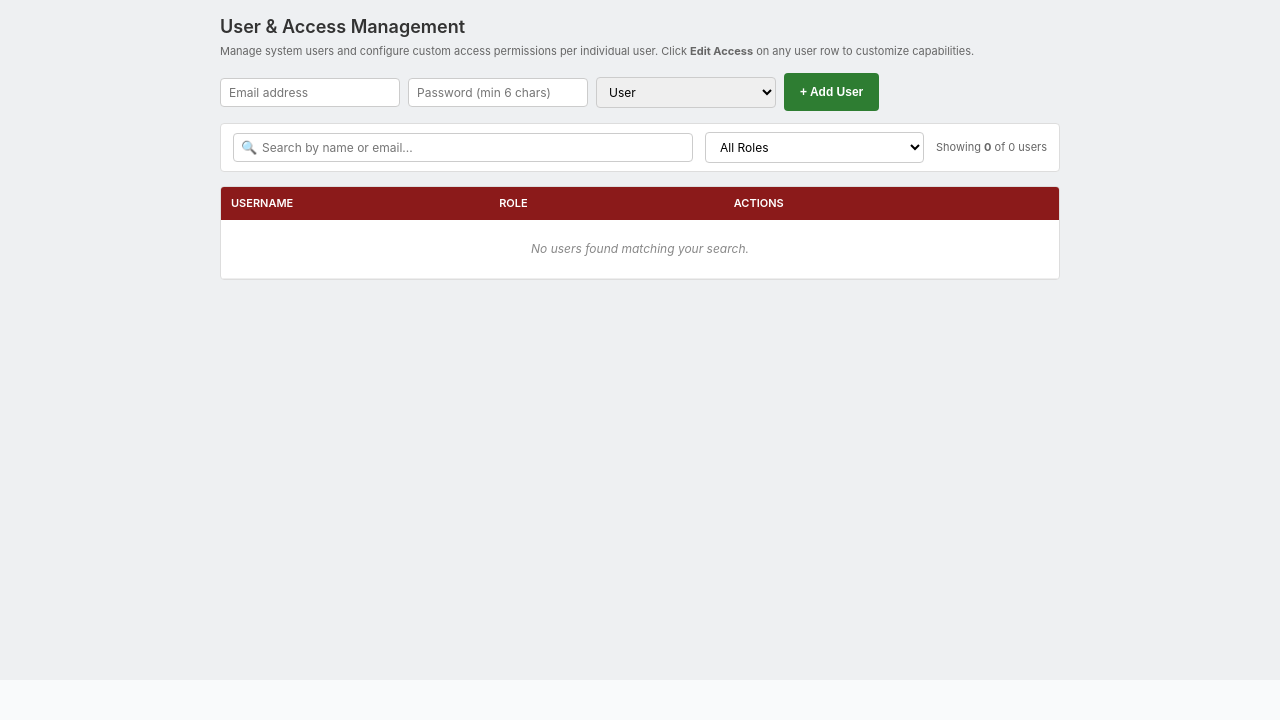
UserManagementView › Add User Form › shows validation error when email is invalid
The width and height of the screenshot is (1280, 720).
Step 1. Type "invalidemail" into the field with class "um-input" showing "Email address" → (310,92), box [220,78,400,106]
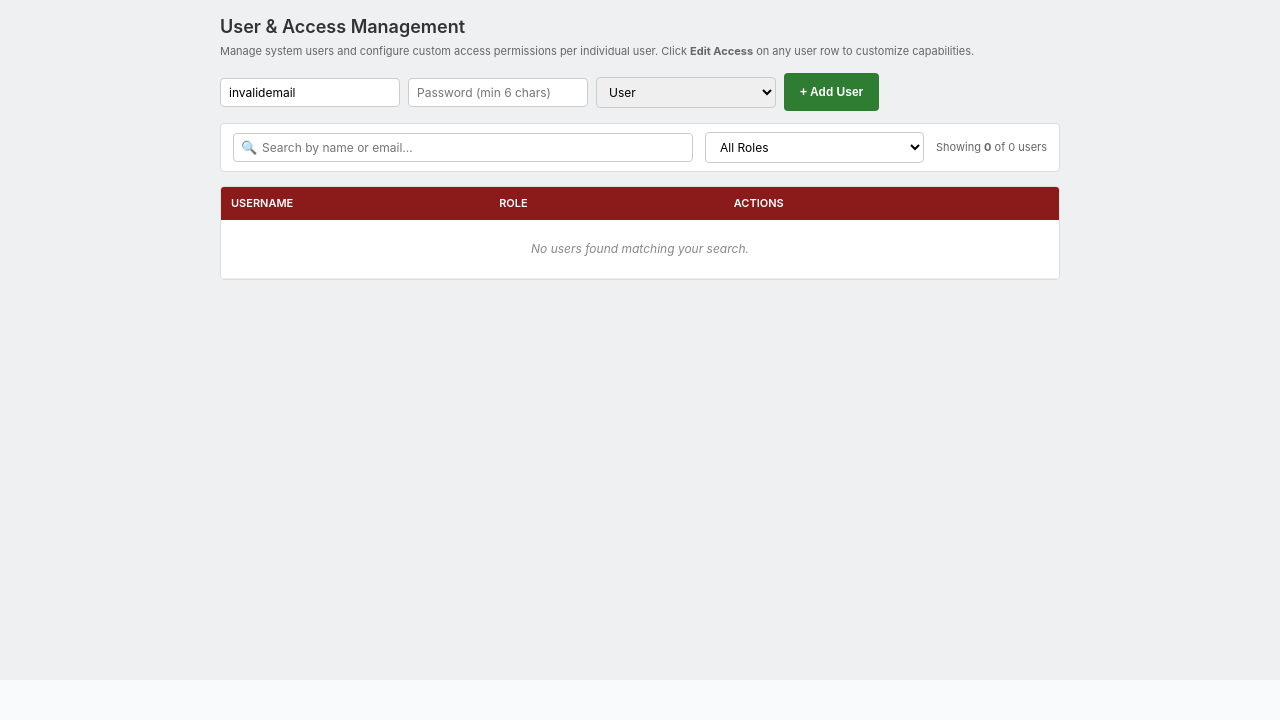
Step 2. Type "password123" into the password field with class "um-input" showing "Password (min 6 chars)" → (498,92), box [408,78,588,106]
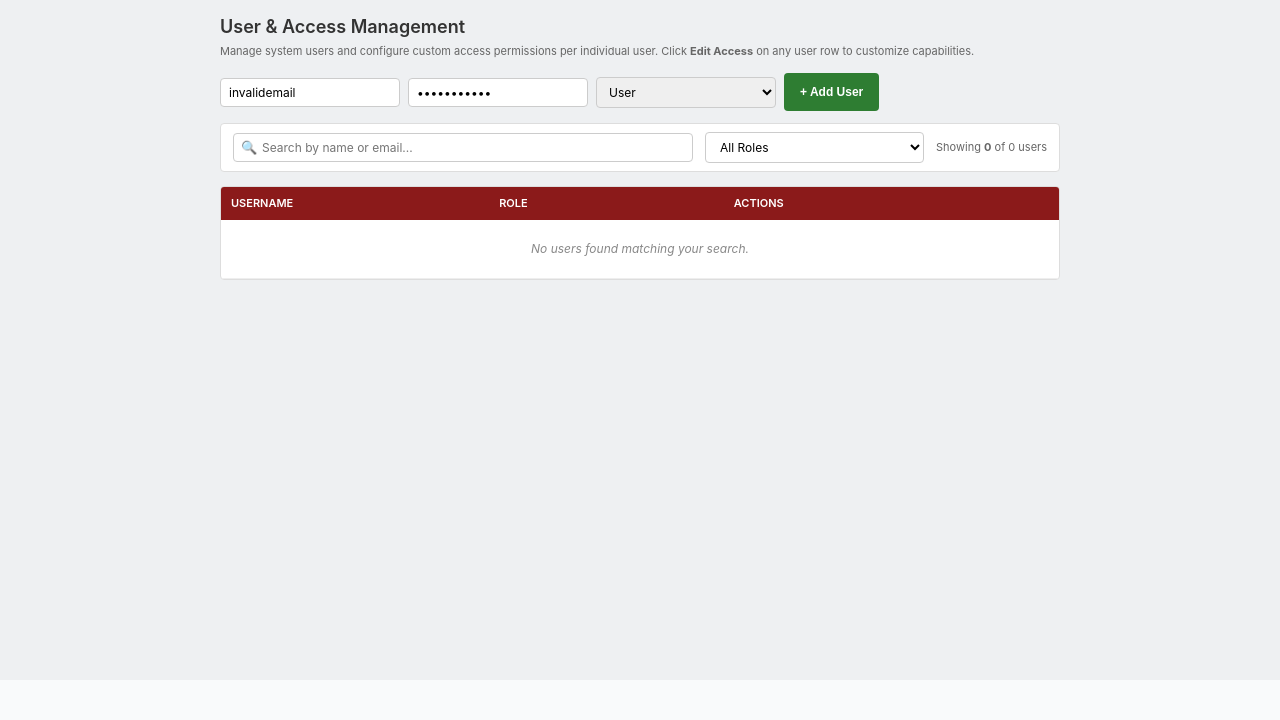
Step 3. Click the button with class "um-btn-add" → (832,92), box [784,73,879,111]
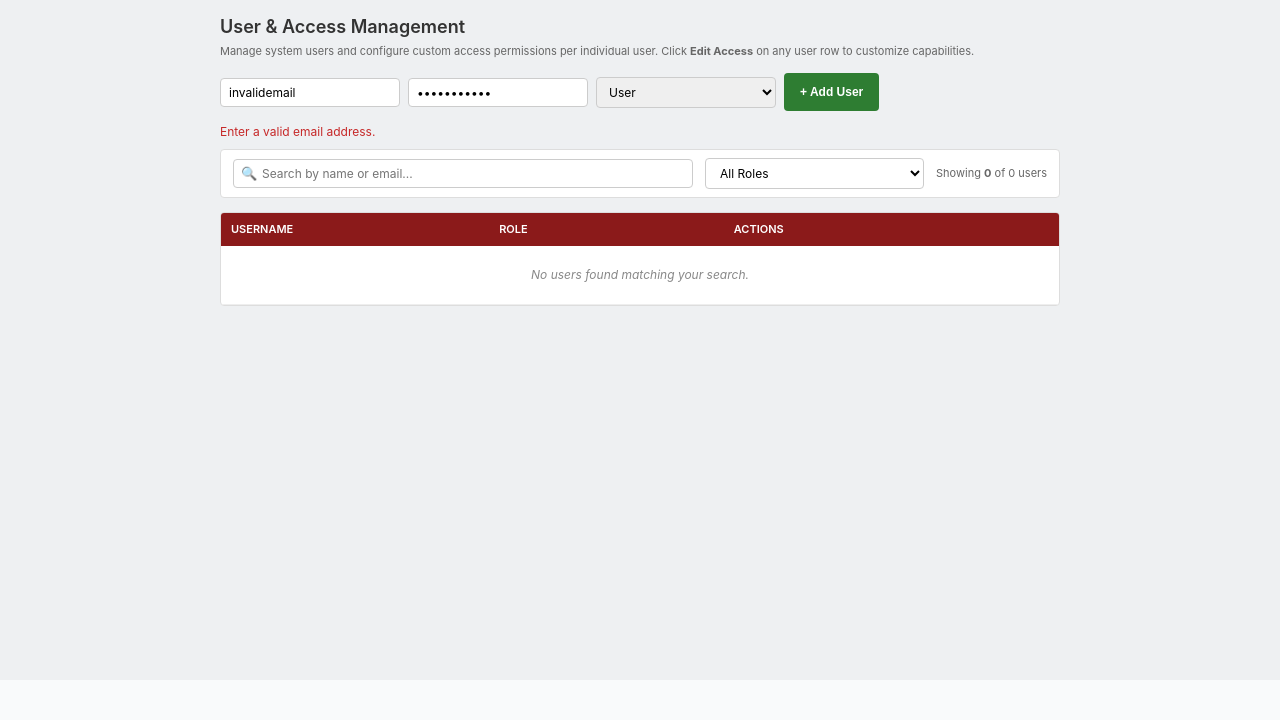
Expected: the text with class "um-error" reads "Enter a valid email address.", [220,124,375,139]
